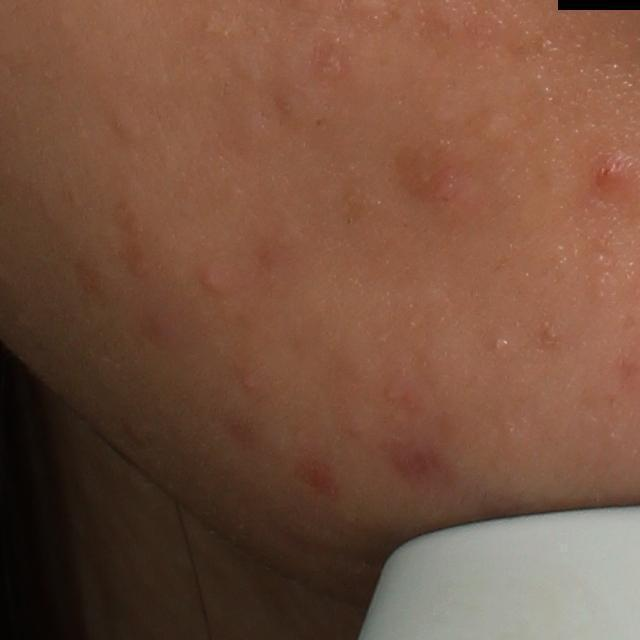comedo: (107, 96, 137, 142)
papule: (413, 167, 468, 208), (585, 153, 628, 198), (201, 270, 223, 293), (243, 375, 257, 391)
